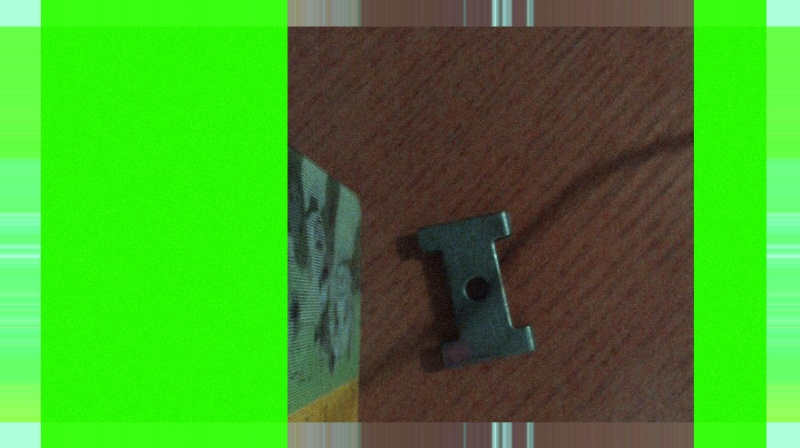O002: (413, 205, 537, 368)
